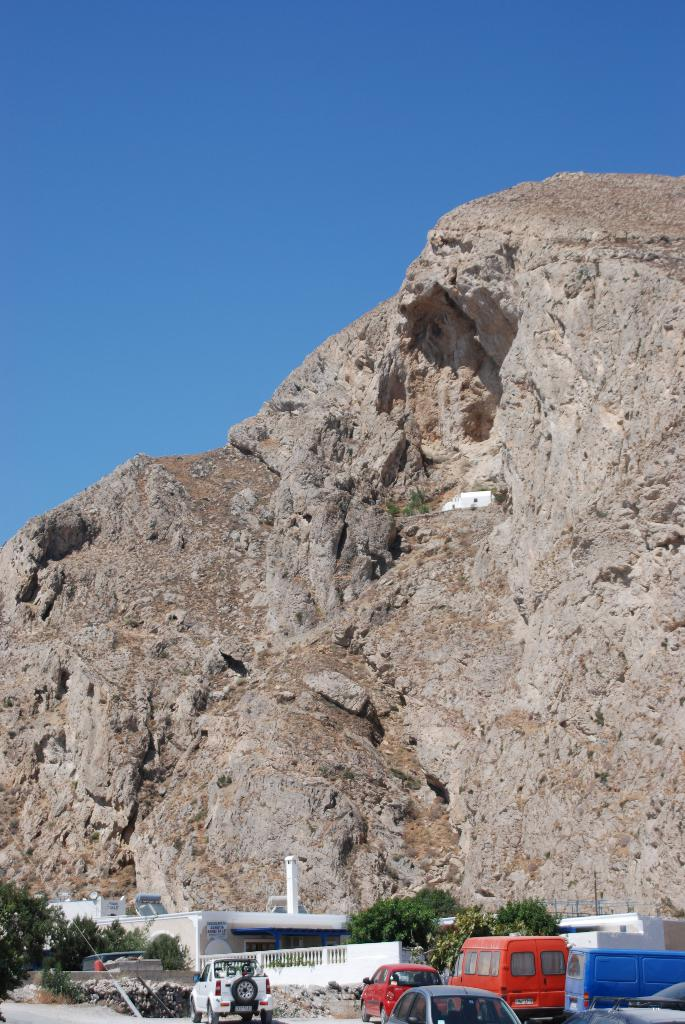Car: (436, 936, 594, 1020), (383, 987, 523, 1023), (355, 961, 437, 1020)
